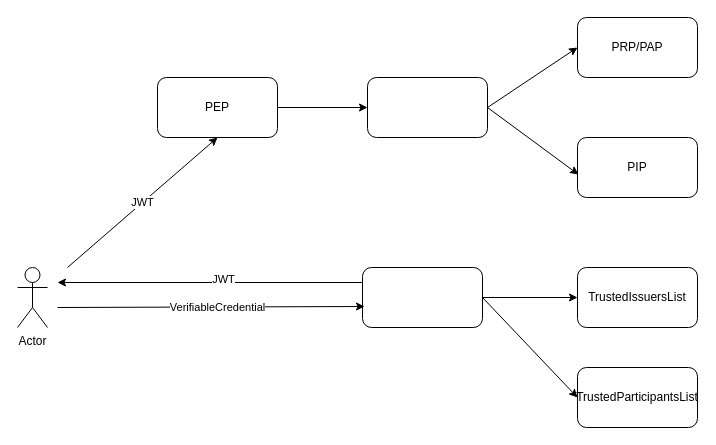
The diagram is 716 pixels wide and 445 high, and some of its shapes have lost their labels. The shapes that lost their labels are listed below. From the top down, each one's box as (x1, y1, x2, y2) in pixels, then its label:
(366, 76, 488, 138): PDP
(362, 266, 482, 328): Verifier
